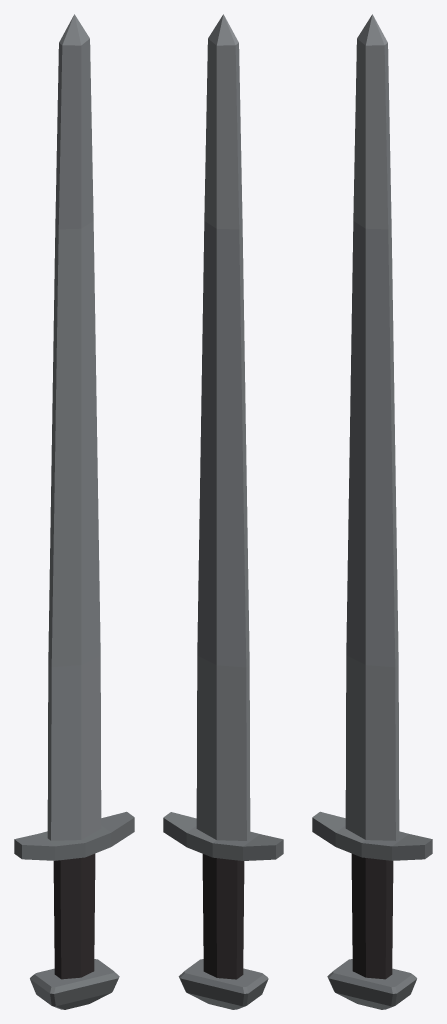
The model's file is Sword.004.fbx.
3 renders of one model, left to right at view 1: azimuth 30°, elevation 25°; view 2: azimuth 150°, elevation 25°; view 3: azimuth 330°, elevation 25°, orthographic.
Visible parts, largest first — view 1: Sword.004; view 2: Sword.004; view 3: Sword.004.
Part boxes in pixels (x1,y1,x2,y2): Sword.004: (14, 14, 134, 1009); Sword.004: (163, 14, 283, 1009); Sword.004: (312, 14, 432, 1009).
Bounding box in the file's own units: 10.74 × 90.17 × 3.82.
